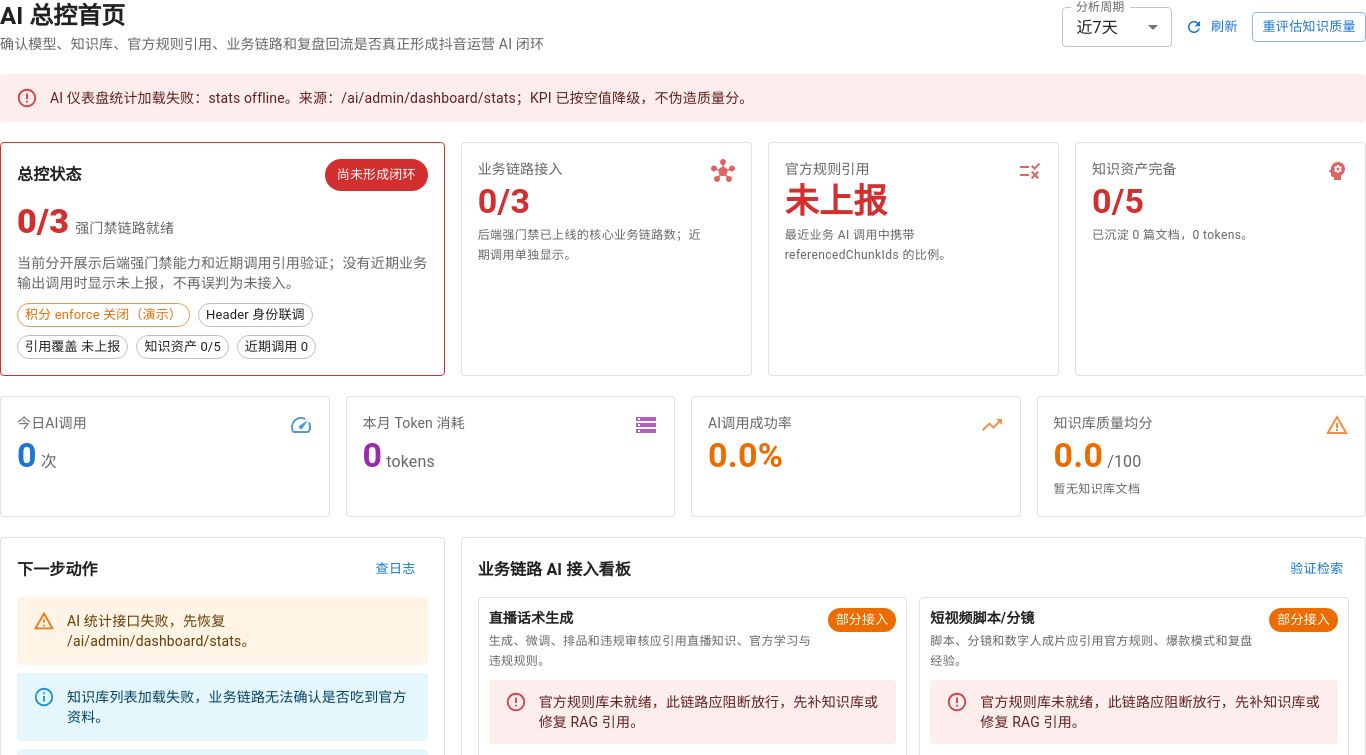
Scenario: AiDashboardPage › shows endpoint-specific partial failure messages and rescan failure inline
The width and height of the screenshot is (1366, 755).
Expected: the text "AI 仪表盘统计加载失败：stats offline。来源：/ai/admin/dashboard/stats" is shown, [50,90,754,106]
Step 1. Click the button "重评估知识质量" → [1309, 27], box [1252,12,1365,42]
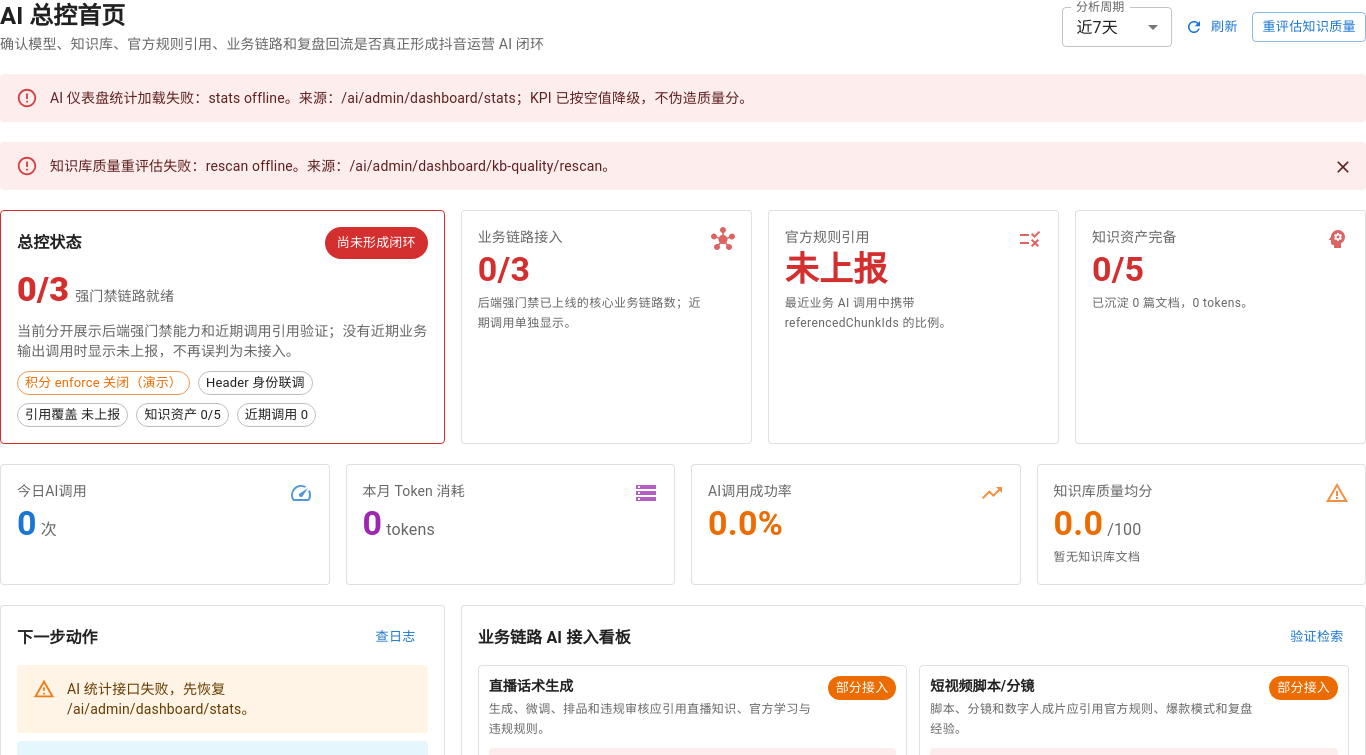
Expected: the text "知识库质量重评估失败：rescan offline。来源：/ai/admin/dashboard/kb-quality/rescan" is shown, [50,158,616,174]
